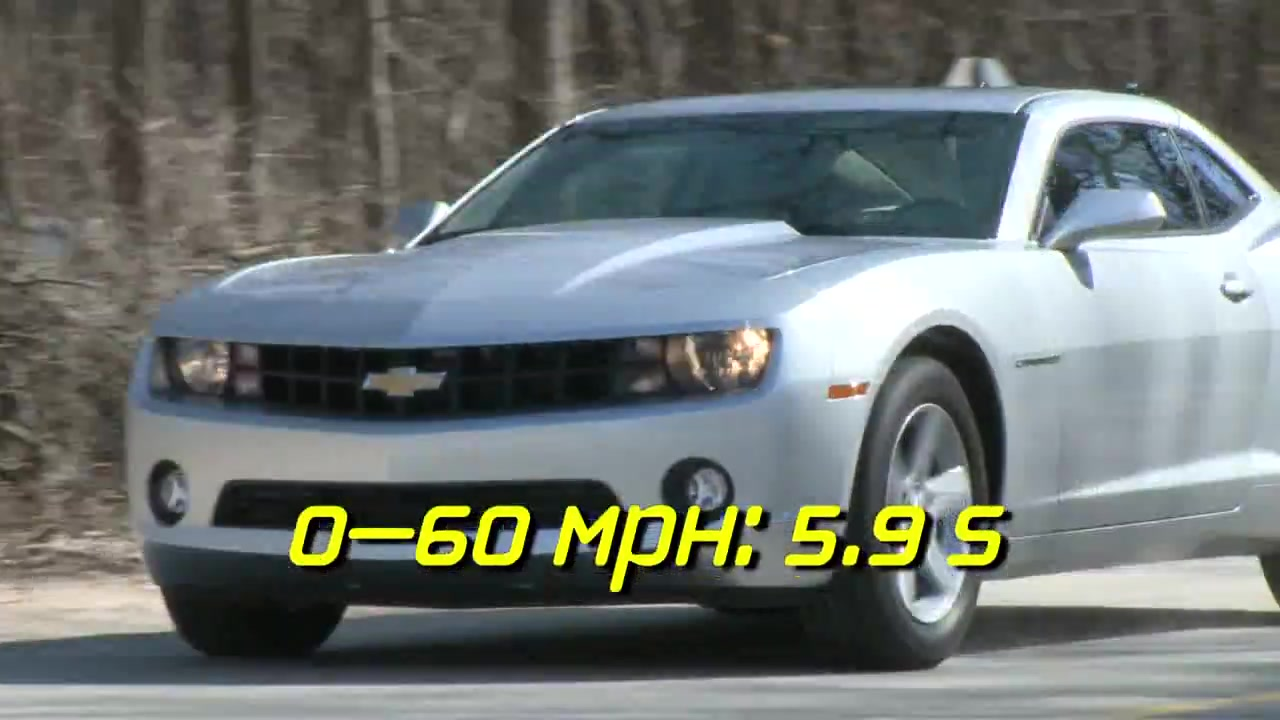car: (117, 80, 1280, 674)
